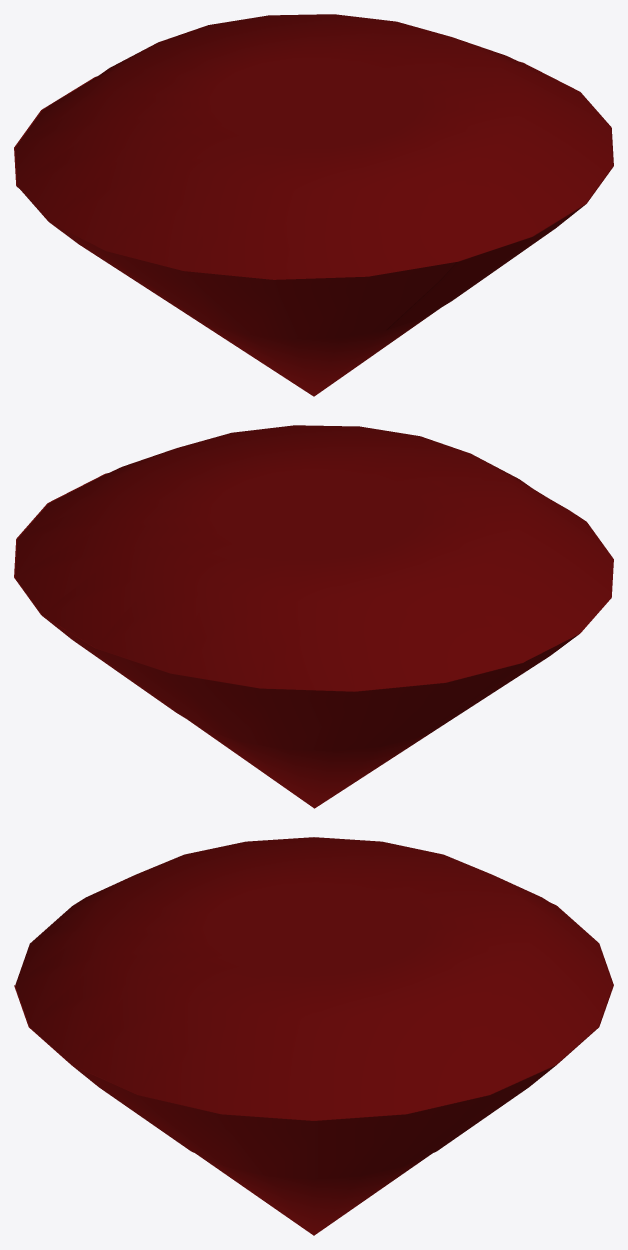
Rendered from jewel.fbx.
The picture shows the model from 3 angles, top to bottom: view 1: azimuth 30°, elevation 25°; view 2: azimuth 150°, elevation 25°; view 3: azimuth 270°, elevation 25°; orthographic projection. The views are drawn at different scales.
Parts seen in each view (by area): view 1: pCone1; view 2: pCone1; view 3: pCone1.
Boxes of the visible parts, left/top/right/bottom form: pCone1: left=14, top=14, right=613, bottom=396; pCone1: left=14, top=425, right=613, bottom=808; pCone1: left=14, top=837, right=613, bottom=1235.
Size of the model in its own units: 1.16 by 0.6124 by 1.08.
